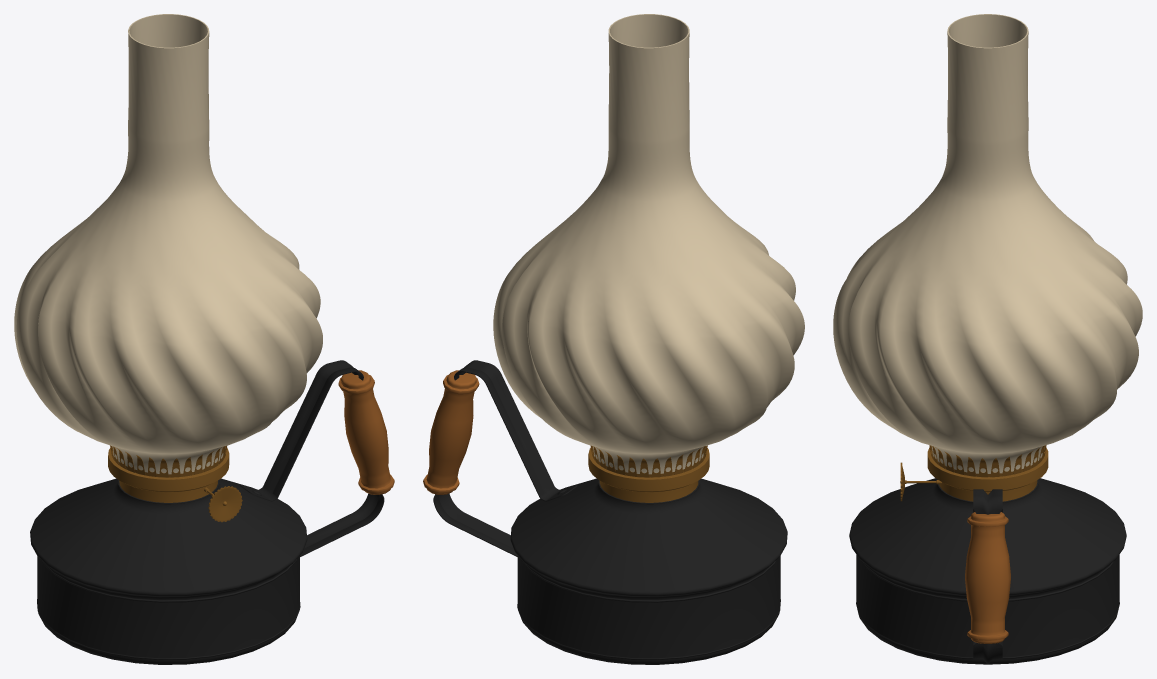
Rendered from lamp2.fbx.
The picture shows the model from 3 angles, left to right: view 1: azimuth 30°, elevation 25°; view 2: azimuth 150°, elevation 25°; view 3: azimuth 270°, elevation 25°; orthographic projection.
Visible parts, largest first — view 1: glas, metal part, Object016, metal grip, wood; view 2: glas, metal part, metal grip, wood, Object016; view 3: glas, metal part, wood, Object016, metal grip.
Boxes of the visible parts, <box> form: glas: <box>14,14,322,474</box>; metal part: <box>30,478,307,664</box>; Object016: <box>108,445,242,522</box>; metal grip: <box>240,360,384,556</box>; wood: <box>338,370,394,494</box>; glas: <box>493,14,804,474</box>; metal part: <box>510,478,787,664</box>; metal grip: <box>433,360,577,556</box>; wood: <box>423,370,479,494</box>; Object016: <box>588,445,709,502</box>; glas: <box>833,14,1142,473</box>; metal part: <box>849,478,1126,664</box>; wood: <box>965,512,1010,643</box>; Object016: <box>900,445,1048,501</box>; metal grip: <box>973,489,1002,664</box>.
Bounding box in the file's own units: 84.64 × 132 × 63.61.
